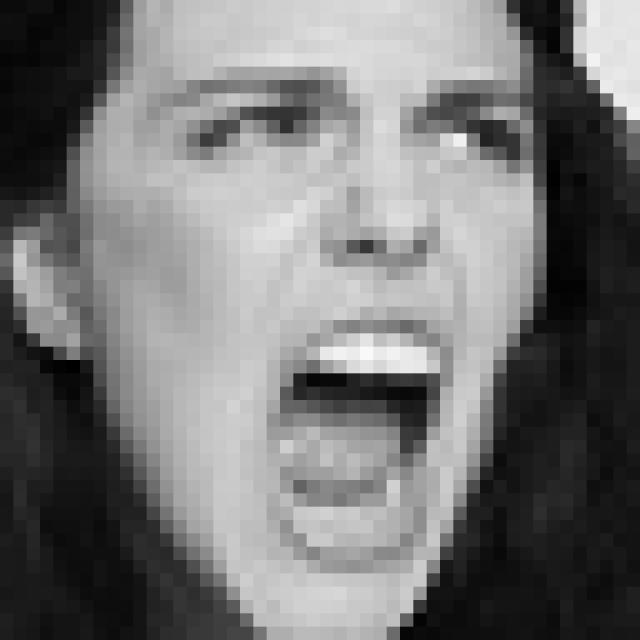angry: (146, 66, 537, 554)
